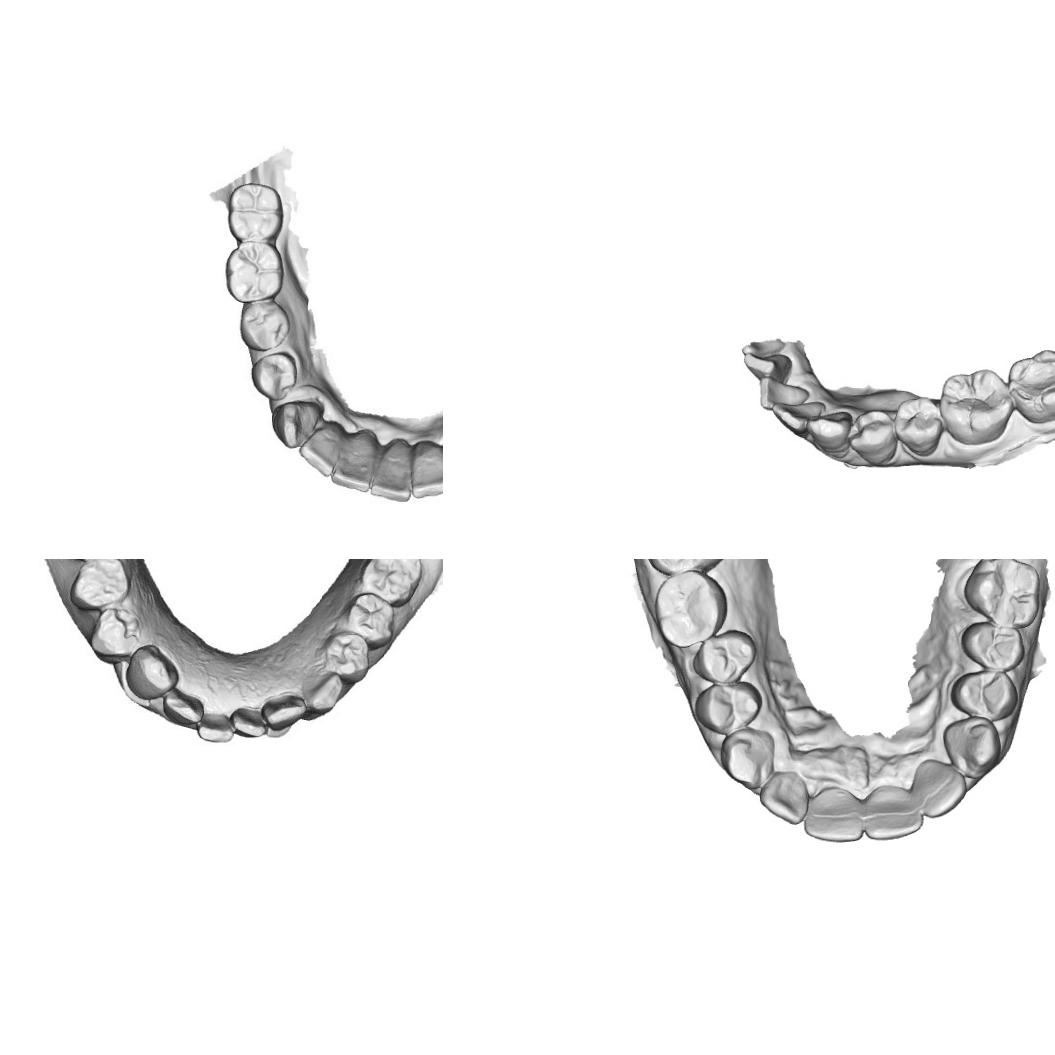canine: (941, 714, 1002, 780), (718, 727, 775, 790), (123, 643, 177, 698), (271, 399, 322, 449), (804, 408, 852, 460), (302, 667, 345, 714)
incisor: (861, 782, 923, 842), (803, 785, 865, 844), (912, 758, 968, 820), (330, 431, 377, 493), (758, 770, 809, 826), (370, 439, 412, 503), (297, 422, 344, 478), (770, 399, 826, 438), (410, 439, 443, 500), (758, 375, 810, 411), (161, 686, 206, 726), (742, 352, 792, 386), (267, 694, 307, 732), (196, 712, 233, 744), (235, 706, 267, 739)
molar: (937, 366, 1014, 446), (653, 570, 728, 650), (962, 559, 1042, 628), (222, 240, 284, 303), (1007, 348, 1055, 424), (226, 182, 284, 242), (358, 559, 425, 608), (645, 559, 730, 578)
premolar: (693, 680, 764, 737), (950, 668, 1018, 724), (691, 628, 757, 685), (959, 620, 1026, 673), (67, 559, 131, 612), (892, 395, 944, 457), (846, 408, 899, 466), (89, 606, 142, 658), (238, 301, 290, 352), (318, 632, 373, 680), (345, 592, 393, 645), (250, 352, 298, 401)
